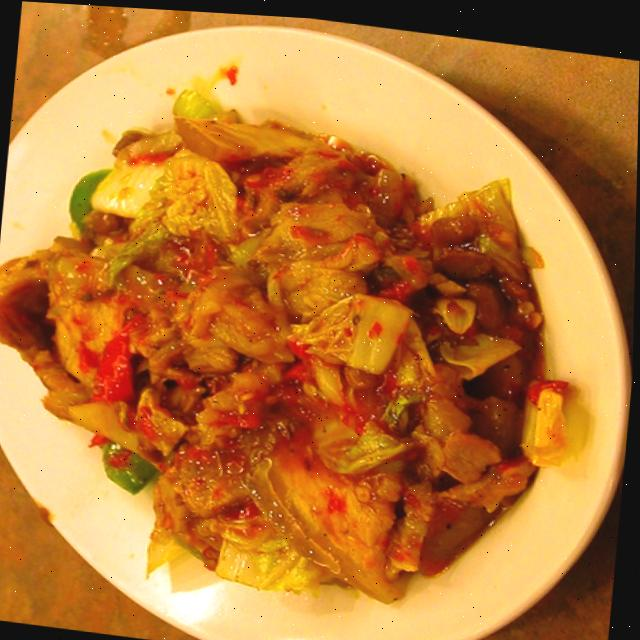猪肉菜式: (0, 17, 633, 640)
